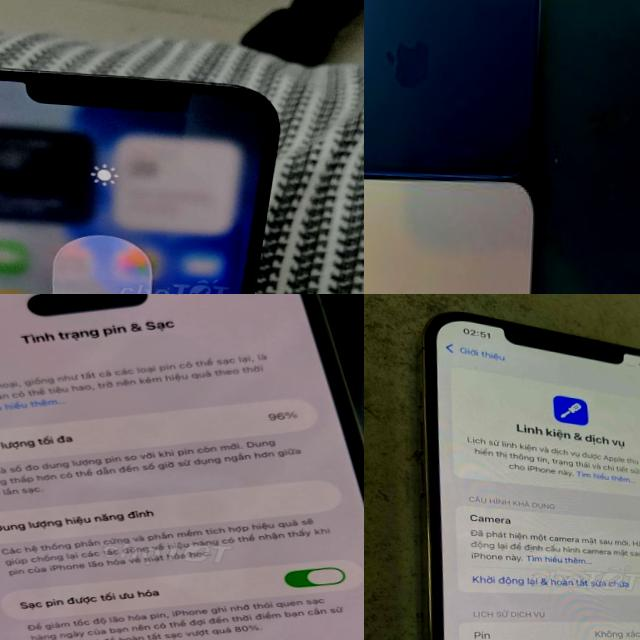gen_12_13: (387, 302, 640, 640), (0, 59, 282, 294)
gen_14: (0, 294, 364, 640)
gen_17: (364, 0, 554, 199)
